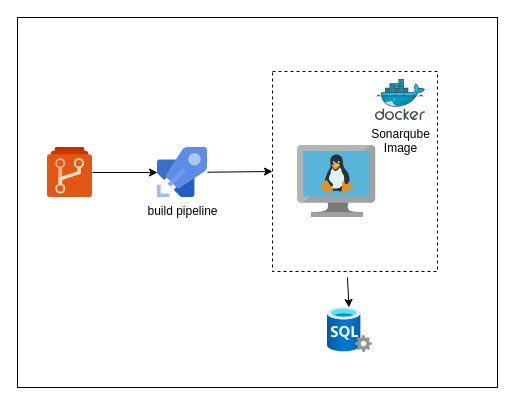
Some shapes in this 515 by 405 pixel diagram are drawn without their labels. The centre of each missing label's shape, as x and y in pixels:
"repo" belongs at (69,172).
"Ubuntu machine" belongs at (336,181).
